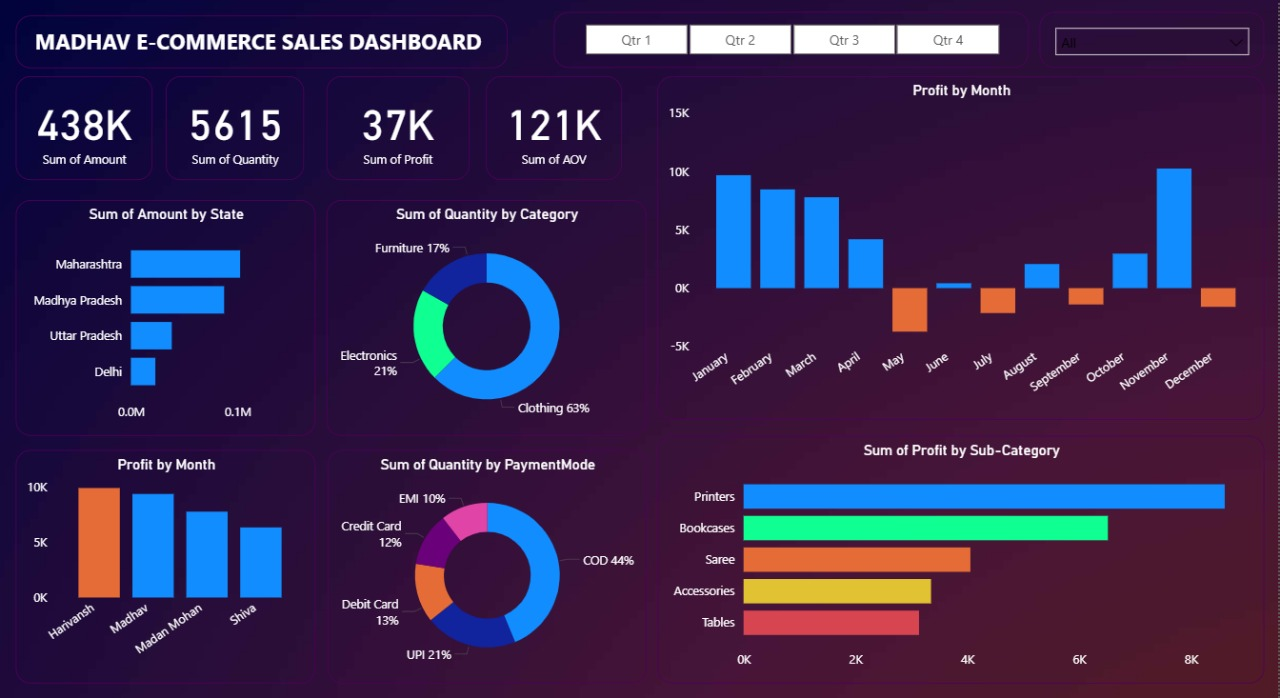

What the dashboard file says about the page in this screenshot:
{"tool":"powerbi","page":{"name":"Page 1","canvas":[1280,720],"ordinal":0},"visuals":[{"type":"textbox","box":[16.7,15.5,491.9,52.4],"z":0},{"type":"columnChart","title":"Profit by Month","fields":{"Y":["Details.Profit"],"Category":["Orders.Order Date.Variation.Date Hierarchy.Month"]},"box":[658.7,76.2,607.5,344.2],"z":1000},{"type":"barChart","fields":{"Category":["Details.Sub-Category"],"Y":["Details.Profit"]},"box":[658.7,436,607.5,247.8],"z":2000},{"type":"donutChart","fields":{"Category":["Details.Category"],"Y":["Details.Quantity"]},"box":[327.1,200,320,235.7],"z":3000},{"type":"donutChart","fields":{"Y":["Details.Quantity"],"Category":["Details.PaymentMode"]},"box":[328.8,450.3,319.2,233.5],"z":4000},{"type":"card","fields":{"Values":["Details.Amount"]},"box":[17.1,75.7,137.1,104.3],"z":5000},{"type":"card","fields":{"Values":["Details.Quantity"]},"box":[167.1,75.7,138.6,104.3],"z":6000},{"type":"card","fields":{"Values":["Details.Profit"]},"box":[327.1,75.7,142.9,104.3],"z":7000},{"type":"card","fields":{"Values":["Details.AOV"]},"box":[487.1,75.7,135.7,104.3],"z":8000},{"type":"barChart","fields":{"Category":["Orders.State"],"Y":["Details.Amount"]},"box":[17.1,200,300,235.7],"z":9000},{"type":"columnChart","title":"Profit by Month","fields":{"Category":["Orders.CustomerName"],"Y":["Details.Amount"]},"box":[16.7,450.3,300.2,233.5],"z":10000},{"type":"slicer","fields":{"Values":["Orders.Order Date.Variation.Date Hierarchy.Quarter"]},"box":[555.1,11.9,475.3,56],"z":11000},{"type":"slicer","fields":{"Values":["Orders.State"]},"box":[1041.1,11.9,225.1,56],"z":12000}]}

Visuals, with their boxes on the page's 1280x720 design canvas (x1, y1, x2, y2). These are canvas units, not pixel positions in the 1280x698 screenshot, which may show the page scaled, cropped or inside an application window:
textbox: [17, 16, 509, 68]
"Profit by Month" columnChart: [659, 76, 1266, 420]
barChart - Details.Sub-Category x Details.Profit: [659, 436, 1266, 684]
donutChart - Details.Category x Details.Quantity: [327, 200, 647, 436]
donutChart - Details.Quantity x Details.PaymentMode: [329, 450, 648, 684]
card - Details.Amount: [17, 76, 154, 180]
card - Details.Quantity: [167, 76, 306, 180]
card - Details.Profit: [327, 76, 470, 180]
card - Details.AOV: [487, 76, 623, 180]
barChart - Orders.State x Details.Amount: [17, 200, 317, 436]
"Profit by Month" columnChart: [17, 450, 317, 684]
slicer - Orders.Order Date.Variation.Date Hierarchy.Quarter: [555, 12, 1030, 68]
slicer - Orders.State: [1041, 12, 1266, 68]
